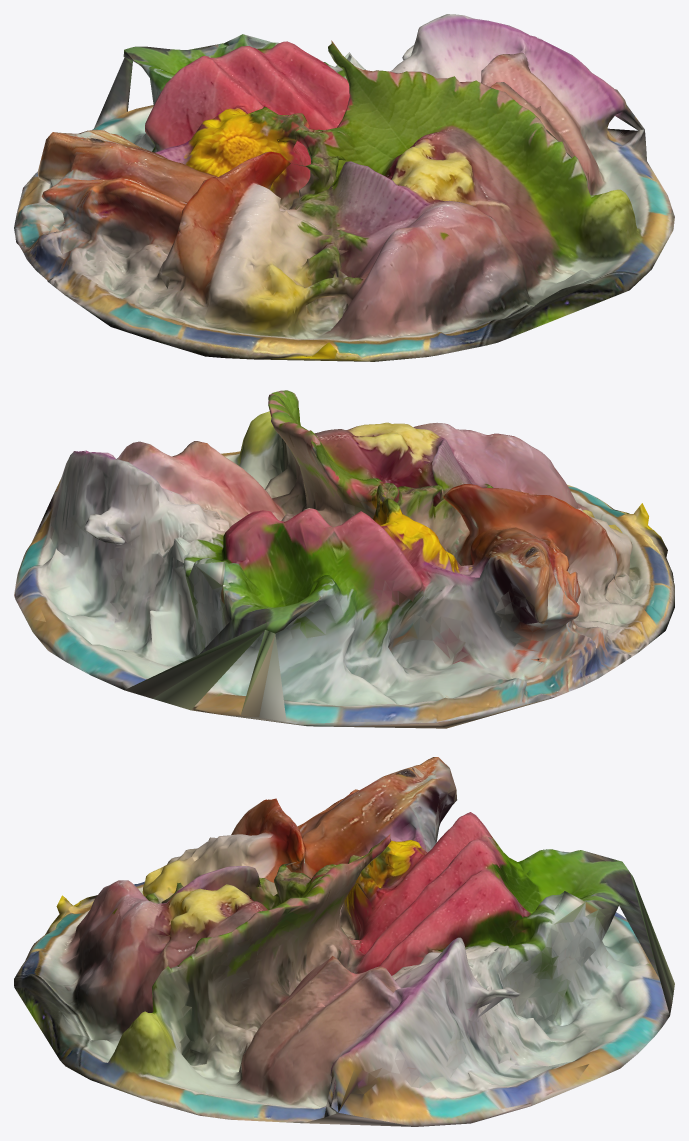
The model's file is sashimi_raw_sliced_fish_shellfish.glb.
3 views of the same model, one above another, from view 1: azimuth 30°, elevation 25°; view 2: azimuth 150°, elevation 25°; view 3: azimuth 270°, elevation 25° (orthographic).
Parts seen in each view (by area): view 1: Stereo textured mesh; view 2: Stereo textured mesh; view 3: Stereo textured mesh.
Part boxes in pixels (left/top/right/bottom): Stereo textured mesh: left=14, top=14, right=674, bottom=361; Stereo textured mesh: left=14, top=390, right=674, bottom=728; Stereo textured mesh: left=14, top=757, right=674, bottom=1126.
Bounding box in the file's own units: 1000 × 298 × 986.
Materials: 1 (1 with a texture image).
